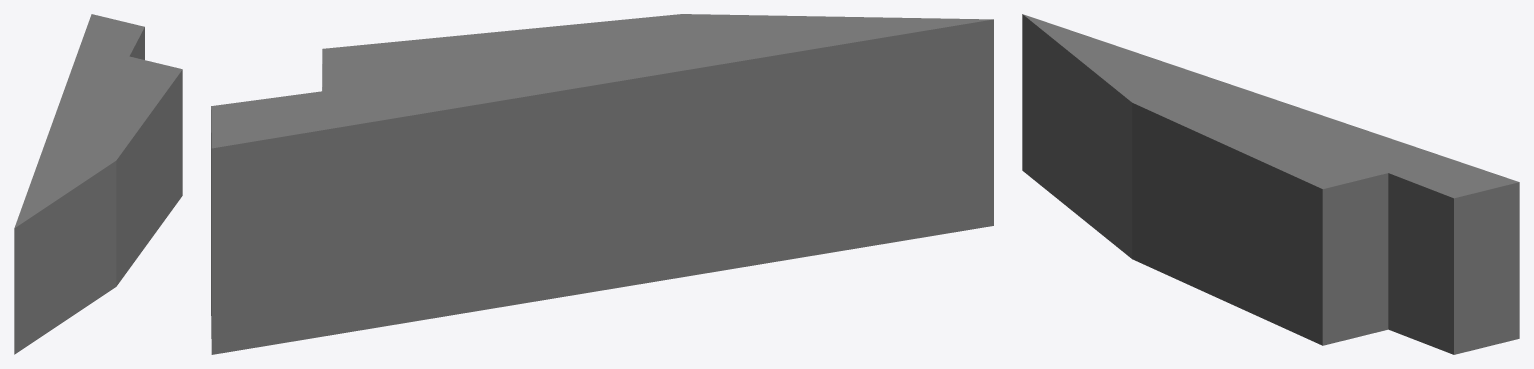
The model's file is base_destroyed_11.glb.
3 views of the same model, side by side, from view 1: azimuth 30°, elevation 25°; view 2: azimuth 150°, elevation 25°; view 3: azimuth 270°, elevation 25° (orthographic). The views are drawn at different scales.
Visible parts, largest first — view 1: base_destroyed_11; view 2: base_destroyed_11; view 3: base_destroyed_11.
Part boxes in pixels (left/top/right/bottom): base_destroyed_11: left=14, top=14, right=182, bottom=354; base_destroyed_11: left=211, top=14, right=993, bottom=354; base_destroyed_11: left=1022, top=14, right=1519, bottom=354.
Bounding box in the file's own units: 0.505 × 0.2 × 0.5756.
1 material, 1 textured.
